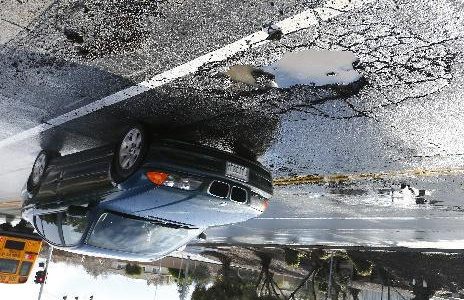pothole: (209, 49, 367, 107)
